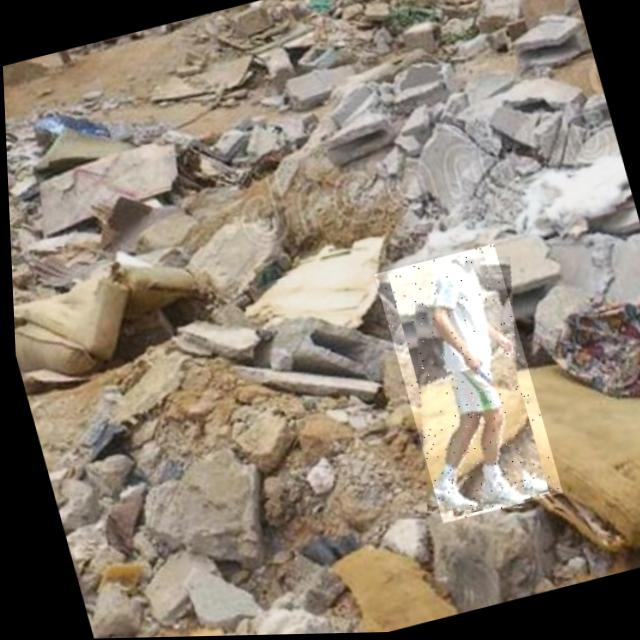Person in Rubble: (370, 245, 559, 526)
